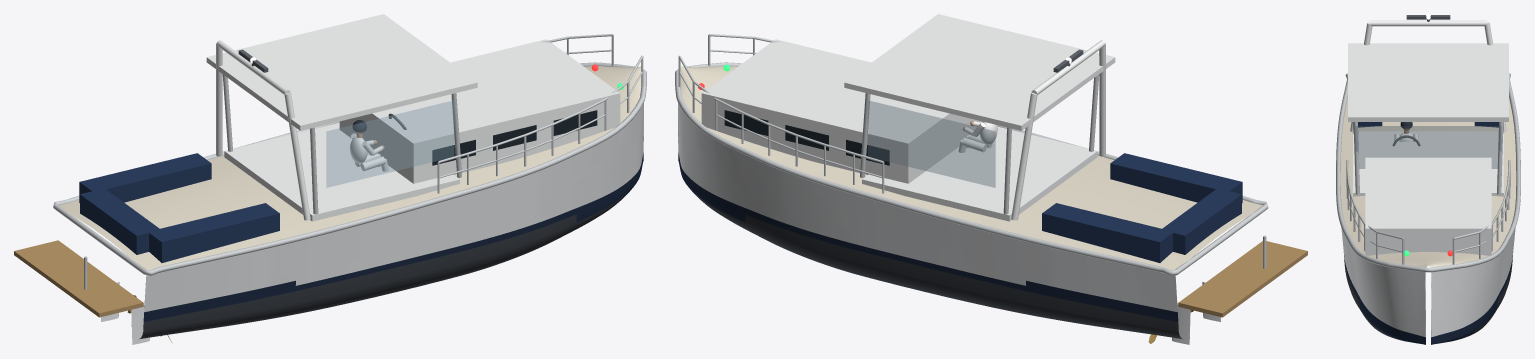
The model's file is cabin.glb.
3 renders of one model, left to right at view 1: azimuth 30°, elevation 25°; view 2: azimuth 150°, elevation 25°; view 3: azimuth 270°, elevation 25°, orthographic. The views are drawn at different scales.
Parts seen in each view (by area): view 1: hull, cabin_top, hardtop, deck, wheelhouse_sole, side_glass_s, rub_rail, cockpit_bench_s, swim_platform, cockpit_bench_p, cockpit_bench_aft, radar_arch (+5 smaller); view 2: hull, cabin_top, hardtop, deck, wheelhouse_sole, side_glass_p, rub_rail, cockpit_bench_p, swim_platform, cockpit_bench_s, cockpit_bench_aft, radar_arch (+5 smaller); view 3: cabin_top, hardtop, hull, deck, windscreen, rub_rail, wheelhouse_sole, radar_arch, bow_rail_p, bow_rail_s, hardtop_posts, radar_scanner (+1 smaller).
Boxes of the visible parts, x1,y1,x2,y2 form: hull: (139, 103, 643, 338); cabin_top: (339, 39, 620, 183); hardtop: (206, 14, 477, 130); deck: (59, 66, 643, 270); wheelhouse_sole: (224, 123, 459, 221); side_glass_s: (326, 101, 453, 187); rub_rail: (53, 62, 646, 275); cockpit_bench_s: (149, 203, 279, 262); swim_platform: (14, 240, 143, 317); cockpit_bench_p: (79, 153, 211, 202); cockpit_bench_aft: (80, 188, 160, 254); radar_arch: (216, 40, 310, 220); hull: (678, 103, 1182, 338); cabin_top: (701, 39, 982, 183); hardtop: (844, 14, 1115, 130); deck: (680, 66, 1262, 270); wheelhouse_sole: (862, 126, 1097, 221); side_glass_p: (868, 101, 995, 187); rub_rail: (675, 62, 1268, 275); cockpit_bench_p: (1042, 203, 1172, 262); swim_platform: (1178, 241, 1307, 317); cockpit_bench_s: (1110, 153, 1242, 202); cockpit_bench_aft: (1161, 188, 1241, 254); radar_arch: (1011, 40, 1105, 220); cabin_top: (1365, 142, 1491, 255); hardtop: (1348, 43, 1508, 121); hull: (1341, 228, 1515, 344); deck: (1340, 98, 1516, 267); windscreen: (1355, 126, 1501, 168); rub_rail: (1336, 73, 1520, 272); wheelhouse_sole: (1353, 131, 1503, 196); radar_arch: (1350, 20, 1506, 132); bow_rail_p: (1452, 160, 1510, 264); bow_rail_s: (1346, 160, 1404, 264); hardtop_posts: (1353, 122, 1503, 194); radar_scanner: (1406, 15, 1450, 21).
Bounding box in the file's own units: 11.95 × 4.76 × 3.8.
